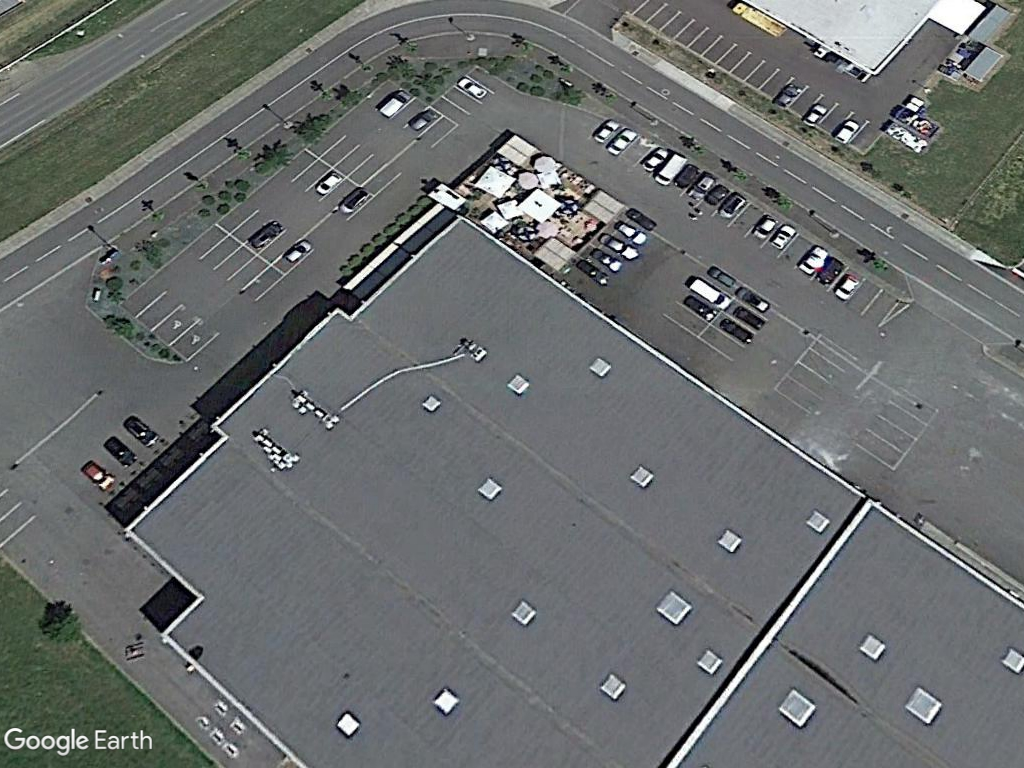car: (118, 410, 165, 450), (78, 460, 117, 493)
van: (690, 272, 736, 313)
